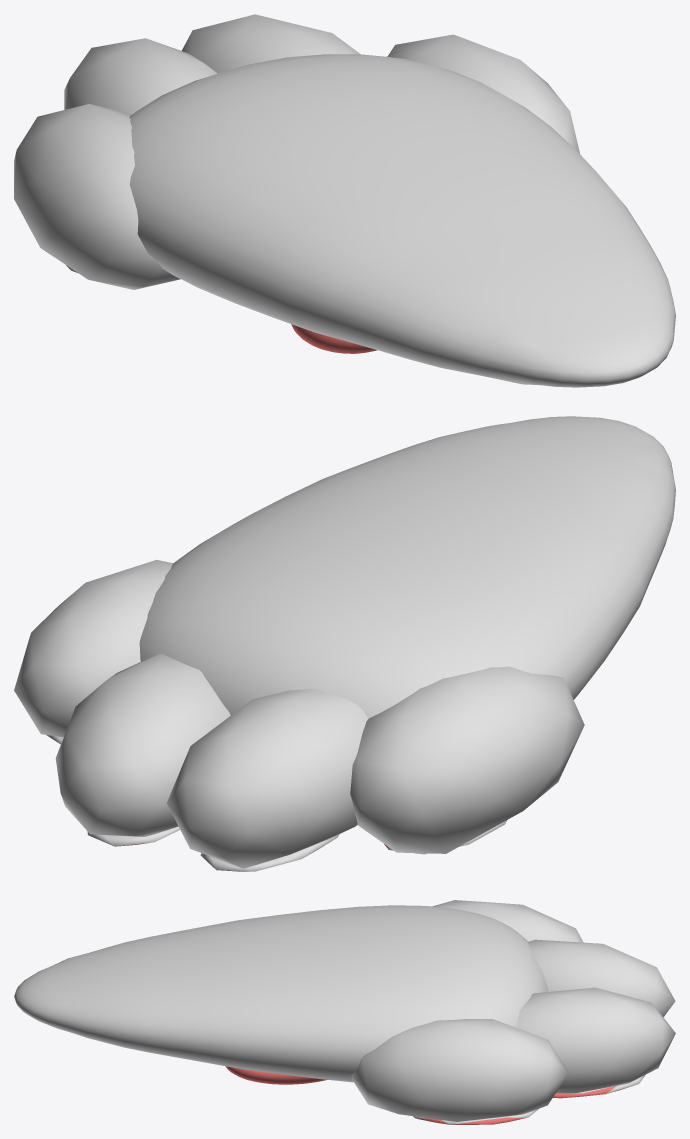
File: cat_paw_redefined.fbx
3 views of the same model, one above another, from view 1: azimuth 30°, elevation 25°; view 2: azimuth 150°, elevation 25°; view 3: azimuth 270°, elevation 25° (orthographic). The views are drawn at different scales.
Parts seen in each view (by area): view 1: Cat Paw; view 2: Cat Paw; view 3: Cat Paw.
Boxes of the visible parts, x1,y1,x2,y2 form: Cat Paw: (14, 14, 675, 387); Cat Paw: (14, 416, 675, 871); Cat Paw: (14, 900, 675, 1124).
Size of the model in its own units: 654 by 214 by 1082.
